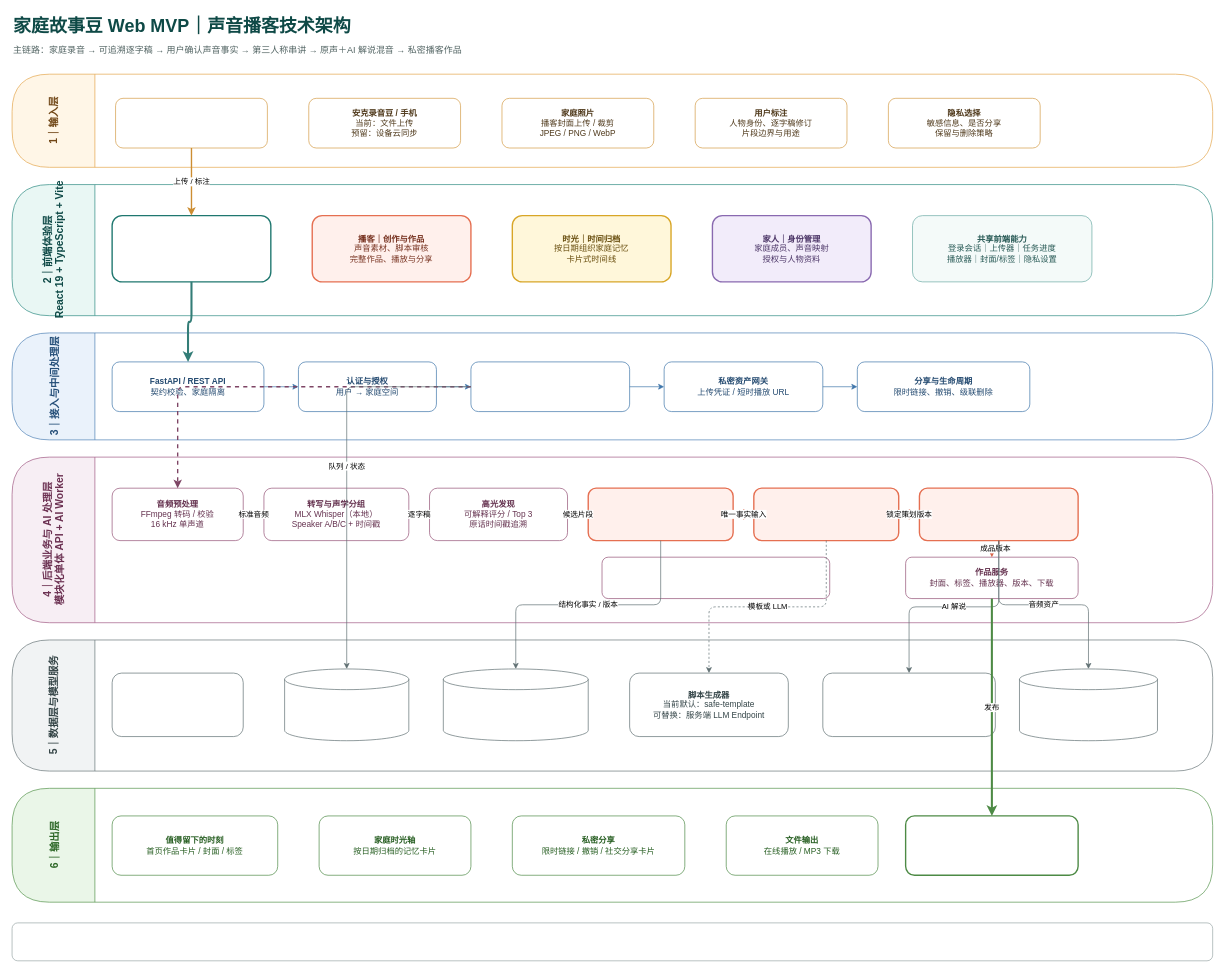
Image size: 1225x973. Some labels were removed from this diagram. The shapes that lost their labels are listed below. From the top down, each one's centre as x and y in pixels, then its label:
At pixel 191 123: "家庭录音 MP3 / M4A / WAV / AAC 最长 15 分钟".
At pixel 191 248: "首页｜发现 动态、高光、快捷入口 “值得留下的时刻”".
At pixel 550 386: "异步任务编排 Celery｜幂等｜重试｜心跳".
At pixel 660 514: "声音事实版本 人物、文本、片段边界 用户确认后不可变".
At pixel 826 514: "第三人称串讲 结构化 PodcastPlan 事实校验 / 防杜撰".
At pixel 998 514: "播客渲染 原声裁剪 + AI 解说 BGM / 响度 / FFmpeg 混音".
At pixel 715 577: "隐私与审计 签名访问、分享撤销、保留策略、删除审计".
At pixel 177 704: "运行监控 成功率 / 时延 / 成本 失败队列 / 回滚".
At pixel 346 704: "Redis 任务队列 / 状态 锁与重试".
At pixel 515 704: "PostgreSQL 家庭 / 录音元数据 逐字稿 / 素材版本 / 作品".
At pixel 908 704: "火山引擎 TTS Seed-TTS 2.0 / 真人感解说 失败：系统音色 → 原声精剪".
At pixel 1088 704: "私有对象存储 原始录音 / 封面 TTS / 混音 MP3".
At pixel 991 845: "完整家庭播客 2–4 分钟连续节目 原声＋AI 解说＋BGM".
At pixel 612 941: "图例 粗珊瑚色箭头＝播客核心创作链路 虚线＝可替换外部能力 所有家庭数据以 family_id 隔离，资产默认私密".
